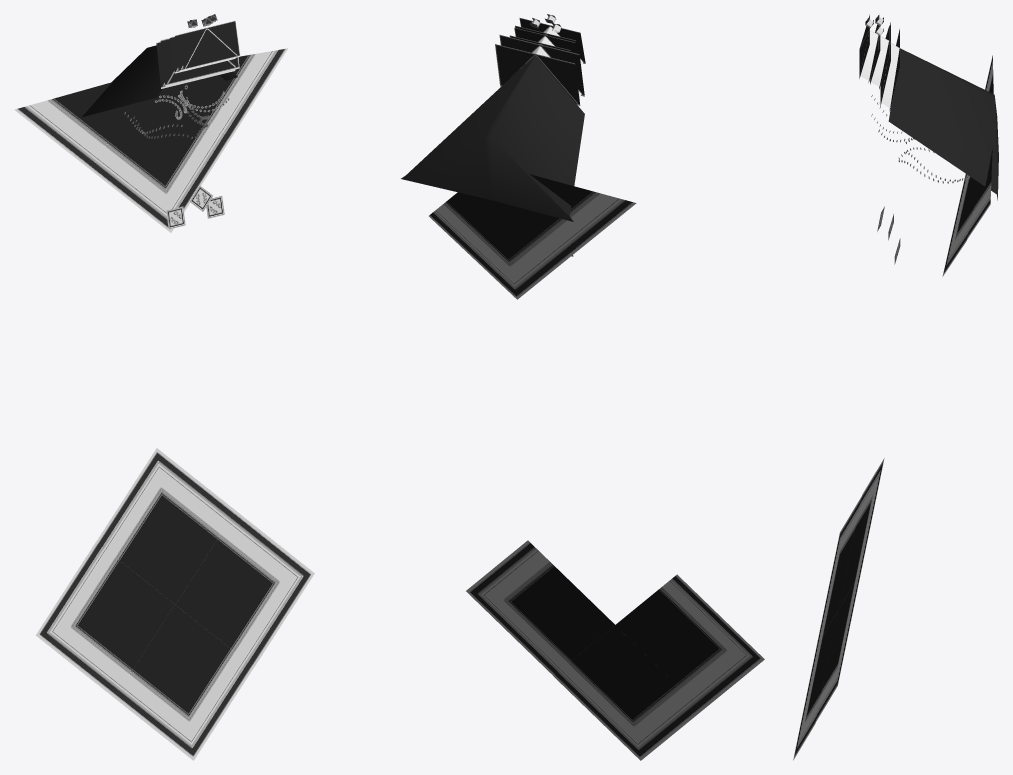
3 renders of one model, left to right at view 1: azimuth 30°, elevation 25°; view 2: azimuth 150°, elevation 25°; view 3: azimuth 270°, elevation 25°, orthographic. The views are drawn at different scales.
Parts seen in each view (by area): view 1: bordo_01.1 (×2), bordo_01 (×2), bordo_01.3 (×2), bordo_01.2, nero, topgrande2, topgrande2.4; view 2: bordo_01.1 (×2), nero, bordo_01 (×2), bordo_01.3, topgrande2.5, topgrande2.4; view 3: nero, bordo_01.1 (×2), bordo_01.3 (×2), bordo_01.2, bordo_01, no_alpha.2, no_alpha.1, no_alpha.
Boxes of the visible parts, <box> form: bordo_01.1 (×2): <box>91,88,253,760</box>; bordo_01 (×2): <box>14,82,174,697</box>; bordo_01.3 (×2): <box>166,48,314,666</box>; bordo_01.2: <box>96,448,235,604</box>; nero: <box>82,45,237,117</box>; topgrande2: <box>179,20,240,70</box>; topgrande2.4: <box>160,38,239,86</box>; bordo_01.1 (×2): <box>429,192,702,760</box>; nero: <box>401,56,584,221</box>; bordo_01 (×2): <box>529,174,764,709</box>; bordo_01.3: <box>466,540,614,675</box>; topgrande2.5: <box>495,44,580,105</box>; topgrande2.4: <box>499,34,584,96</box>; nero: <box>888,48,998,200</box>; bordo_01.1 (×2): <box>793,174,979,760</box>; bordo_01.3 (×2): <box>815,149,992,722</box>; bordo_01.2: <box>838,458,884,608</box>; bordo_01: <box>816,497,861,645</box>; no_alpha.2: <box>881,42,899,108</box>; no_alpha.1: <box>871,36,888,86</box>; no_alpha: <box>860,30,878,80</box>.
Size of the model in its own units: 1737 by 3637 by 883.
Materials: 10 (8 with a texture image).
